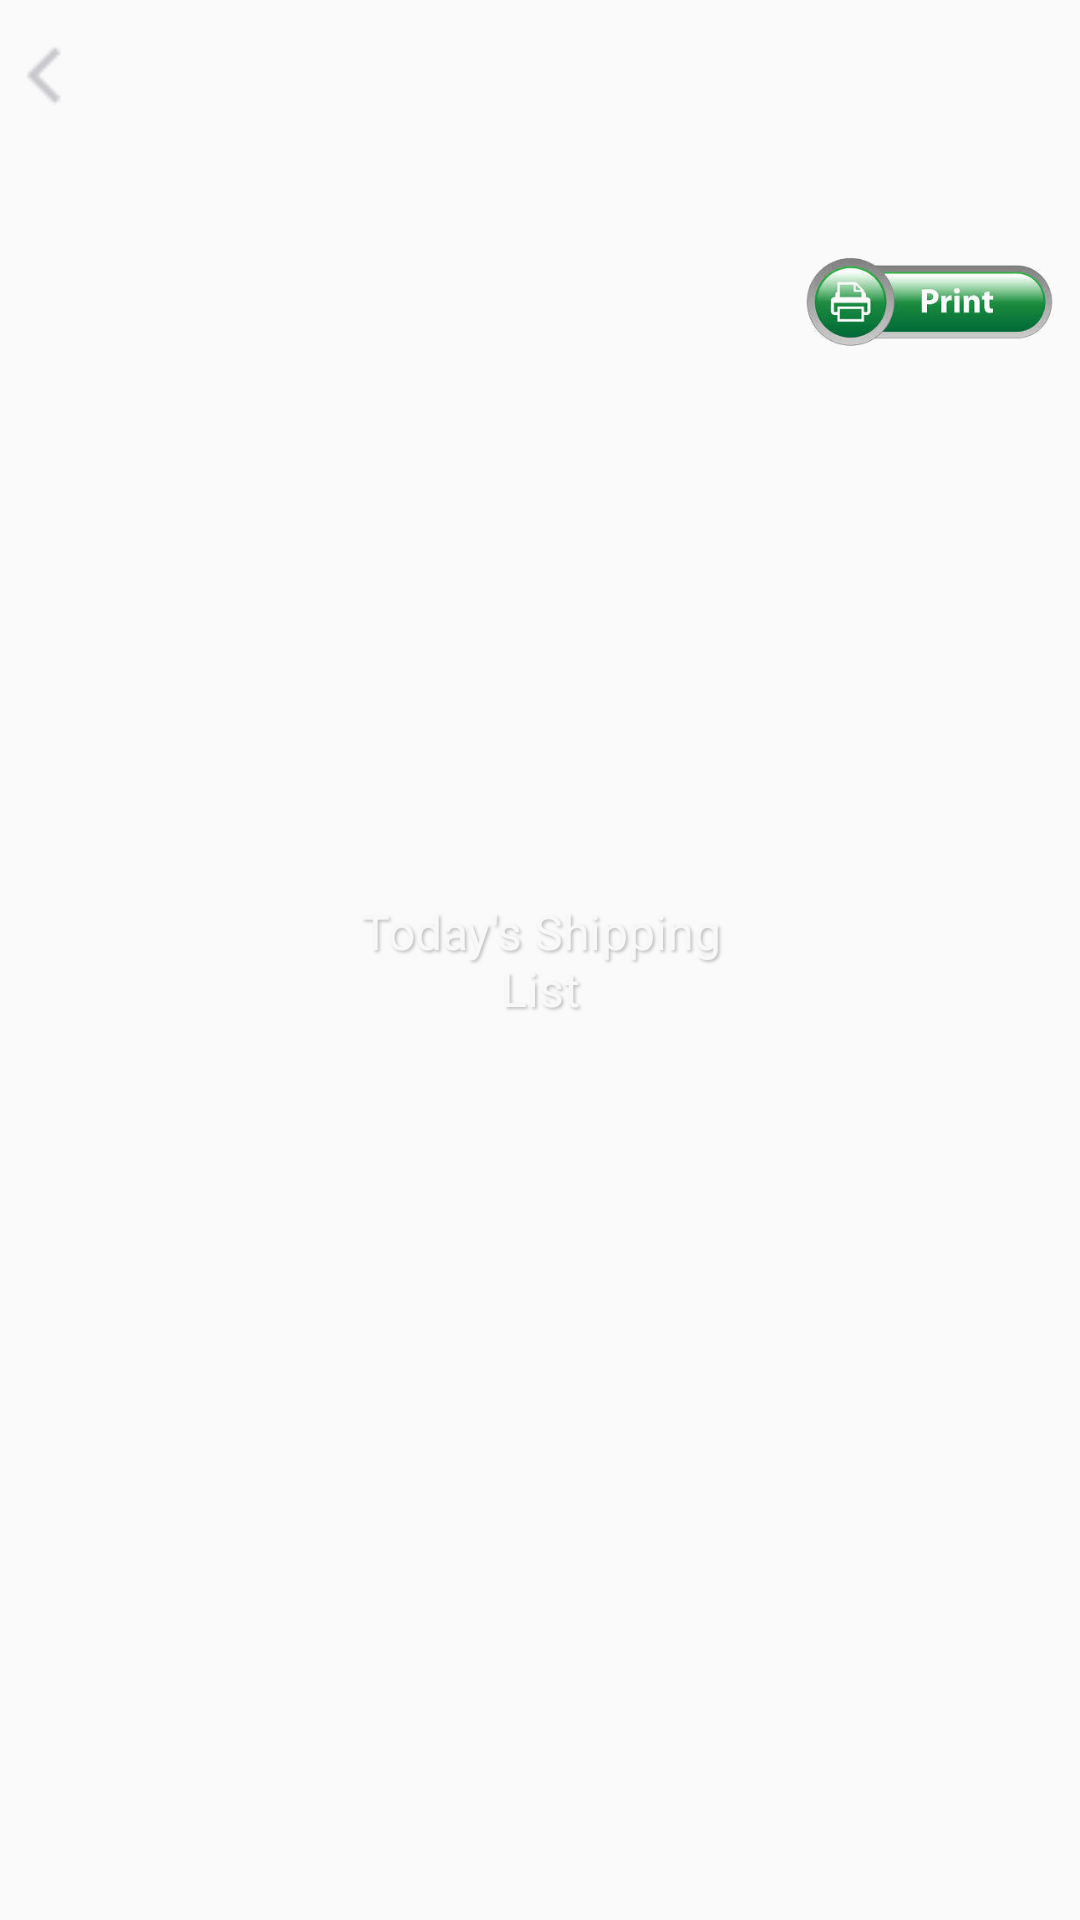

Screen size 1080px×1920px. Icon name, then its center in pixels as point (x, y):
back: point (43, 75)
